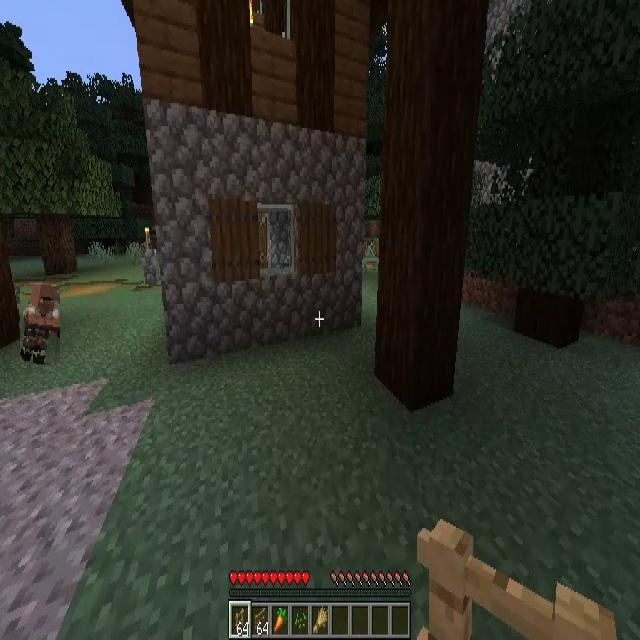people: (20, 284, 60, 363)
